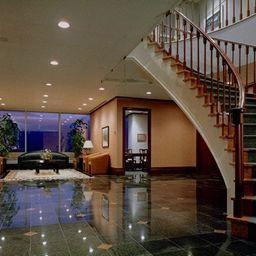Escaleras: (144, 31, 255, 238)
